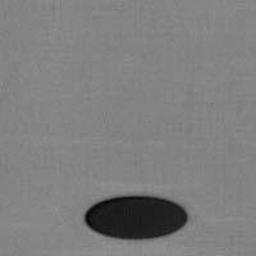Punching: (84, 196, 189, 239)
